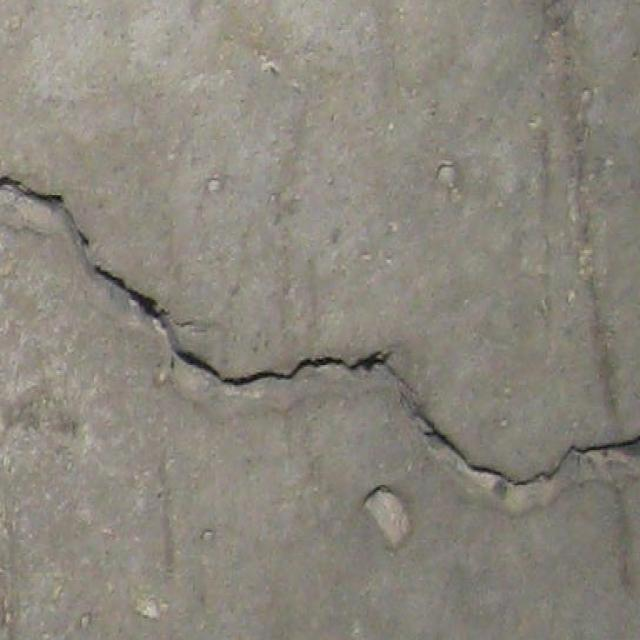crack: (1, 168, 394, 399), (394, 367, 639, 517)
